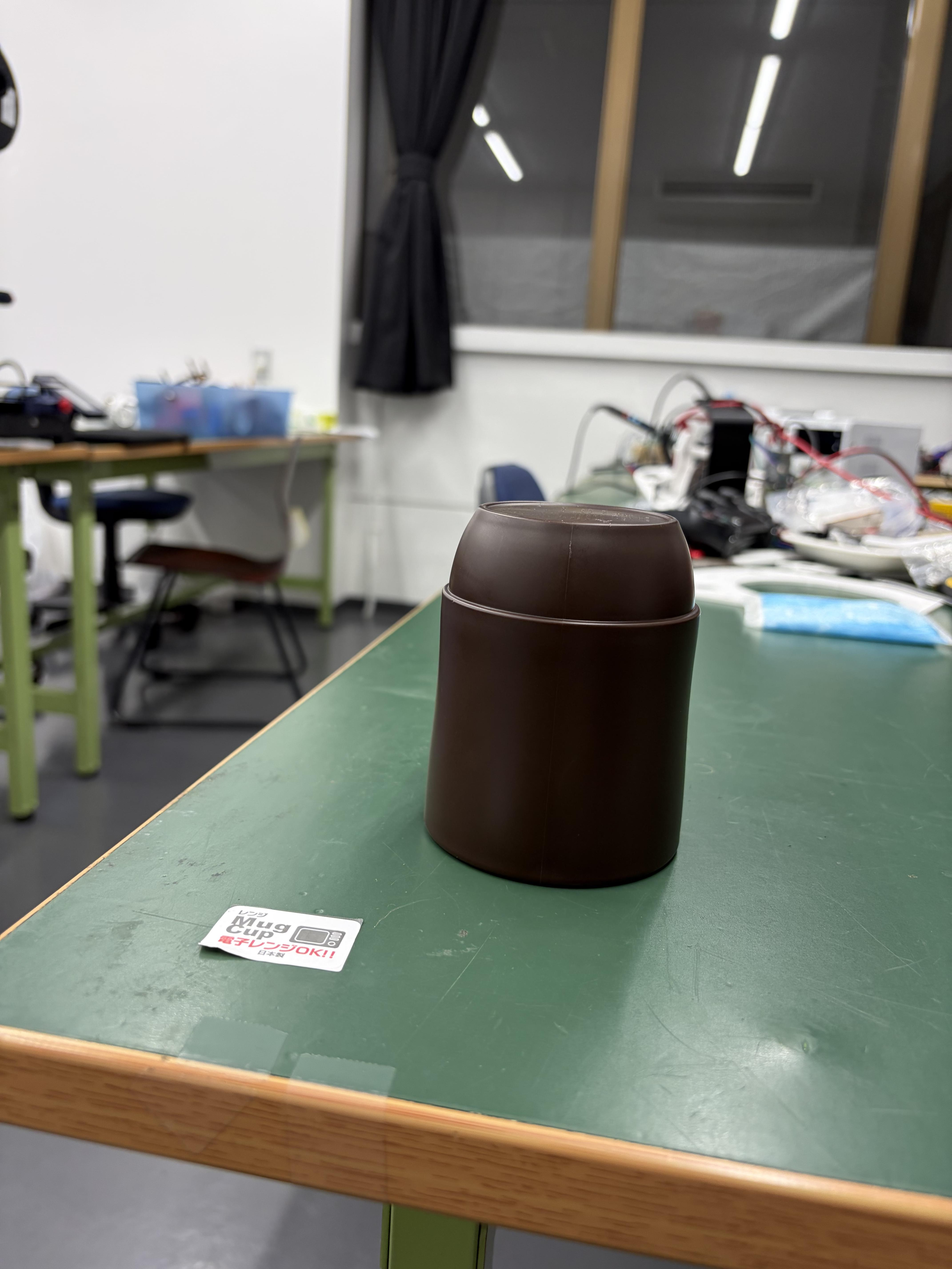mug-real100-3d100: (425, 501, 699, 886)
